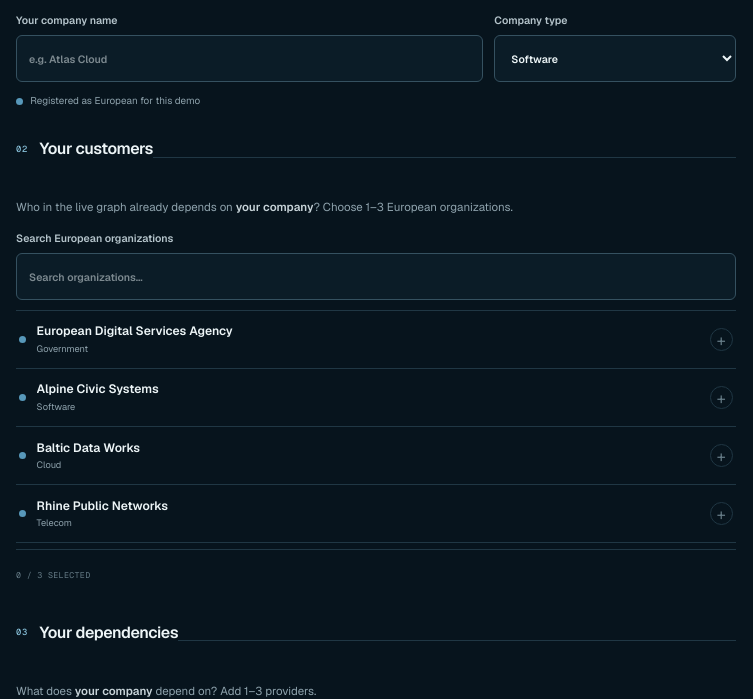
frontend shells › loads canonical European customers into the company-profile form
(page scrolled)
Click the option "European Digital Services Agency government +" at point(135, 331), box [16, 311, 736, 369]
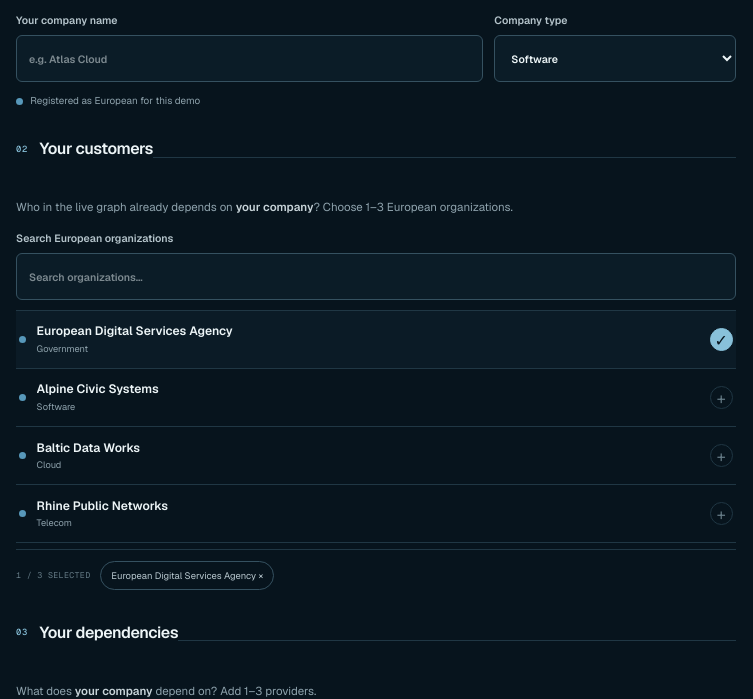
Now the text "1 / 3 selected" is shown, box [16, 569, 90, 582]
